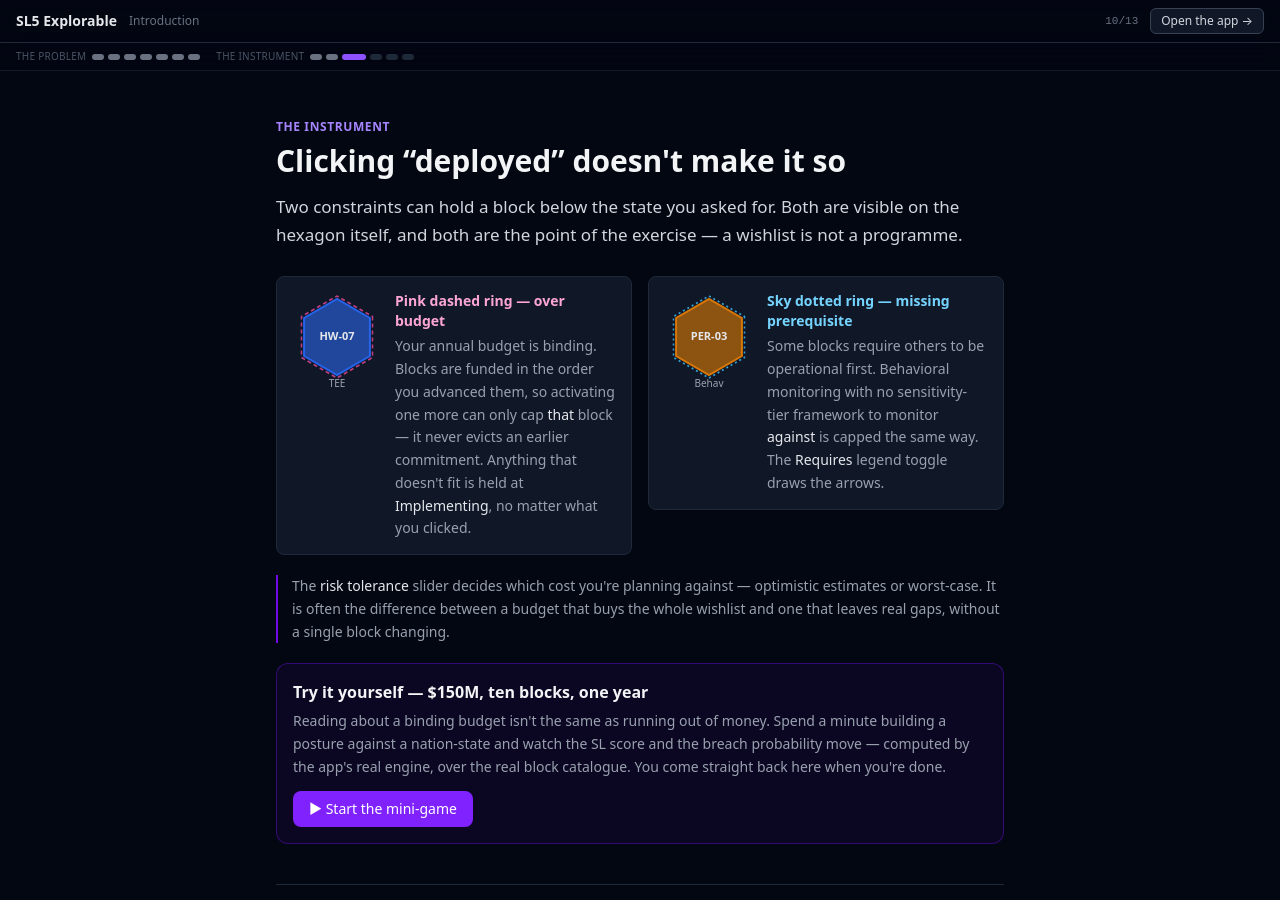
Scenario: playing it › shows the budget cap, and names click order as the way out of it
This screenshot has width=1280, height=900.
Click the button "▶ Start the mini-game": (383,808) [293, 790, 473, 826]
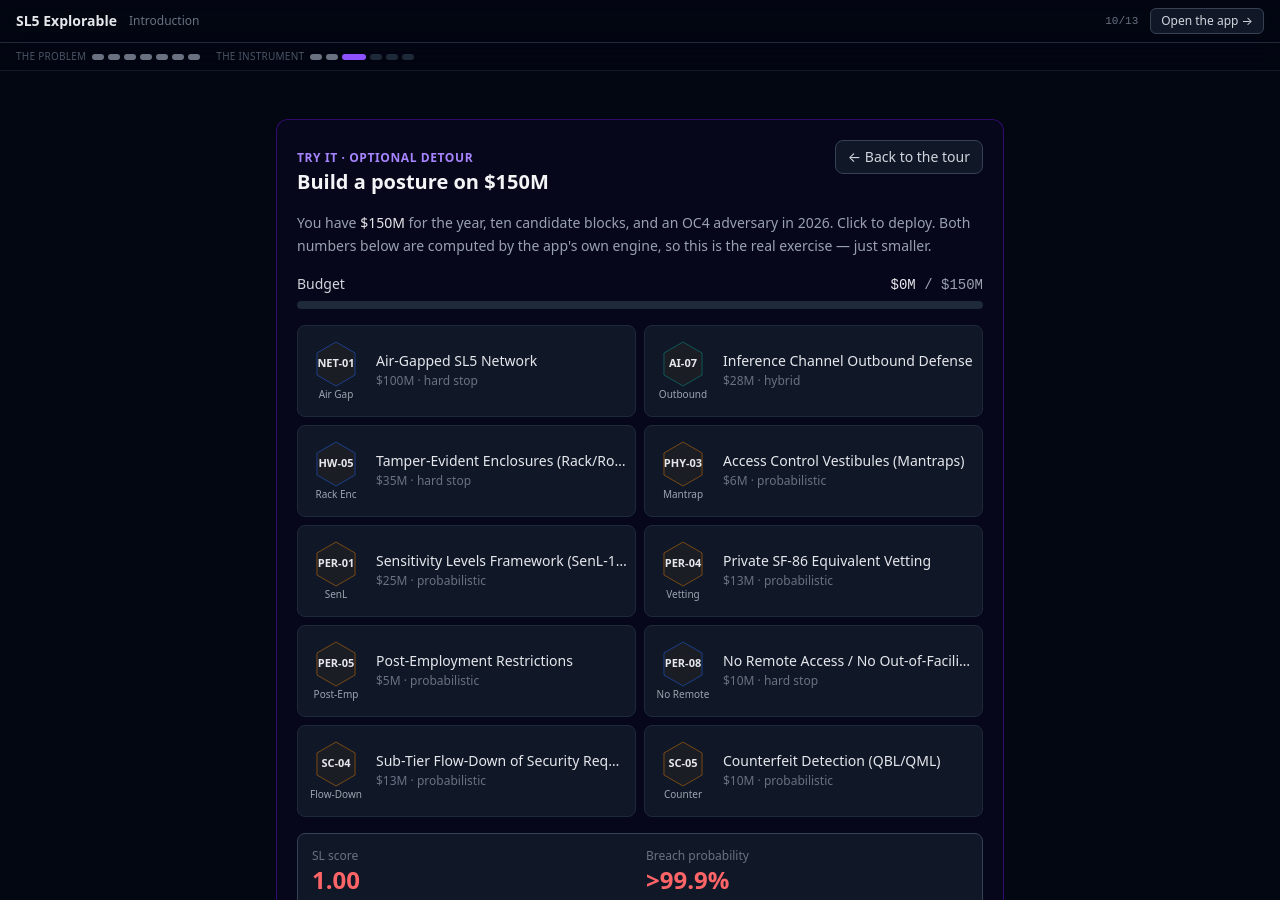
Expected: the text "Budget" is shown, [297, 274, 345, 294]
Click the text "Air-Gapped SL5 Network": (457,360) [376, 351, 537, 370]
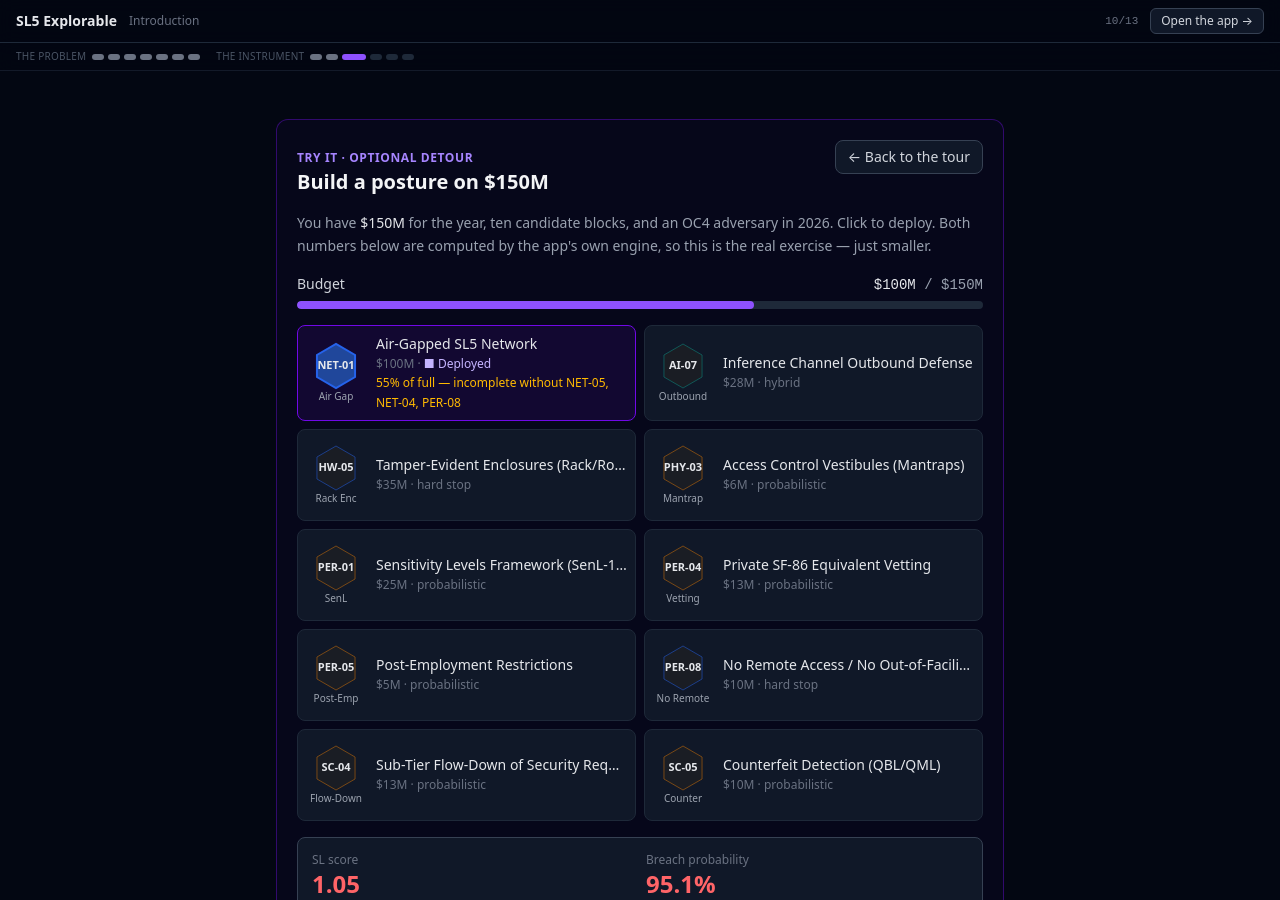
Click the text "Inference Channel Outbound Defense": (848,363) [723, 353, 974, 373]
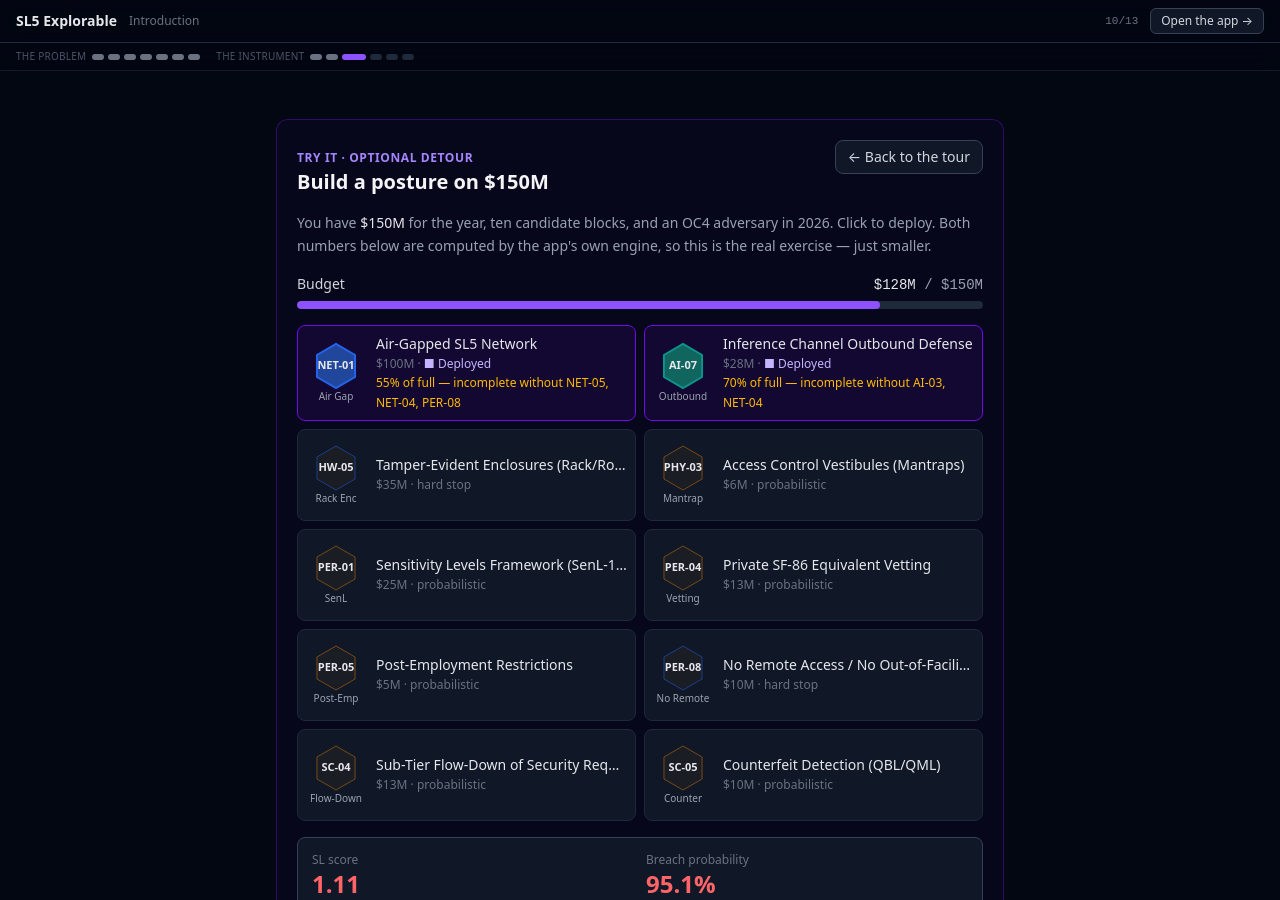
Click the text "Tamper-Evident Enclosures (Rack/Room Scale)": (502,465) [376, 455, 627, 475]
(page scrolled)
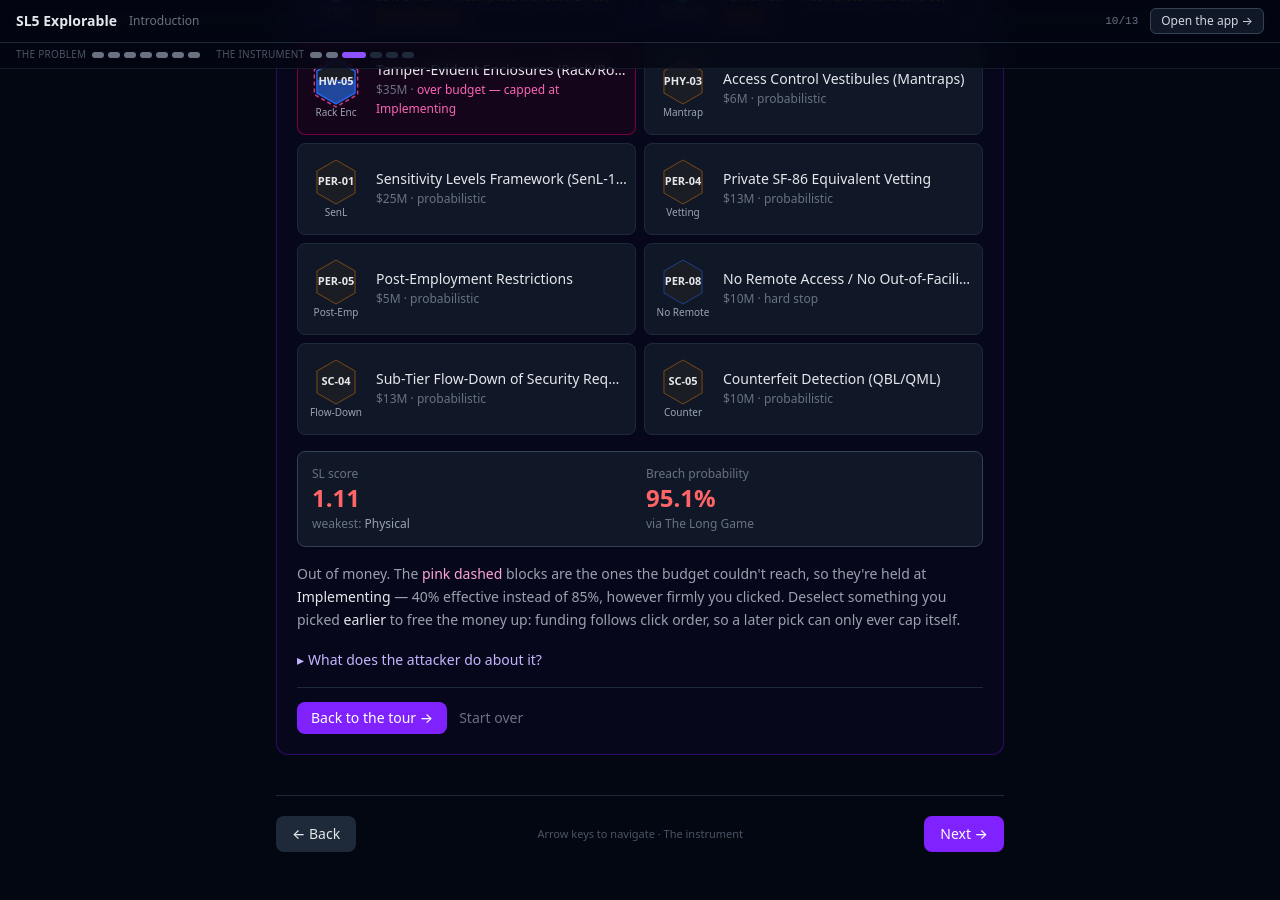
Result: the text "funding follows click order" is shown at [386, 610, 960, 628]
Result: the text "over budget — capped at Implementing" is shown once at [376, 80, 559, 117]
